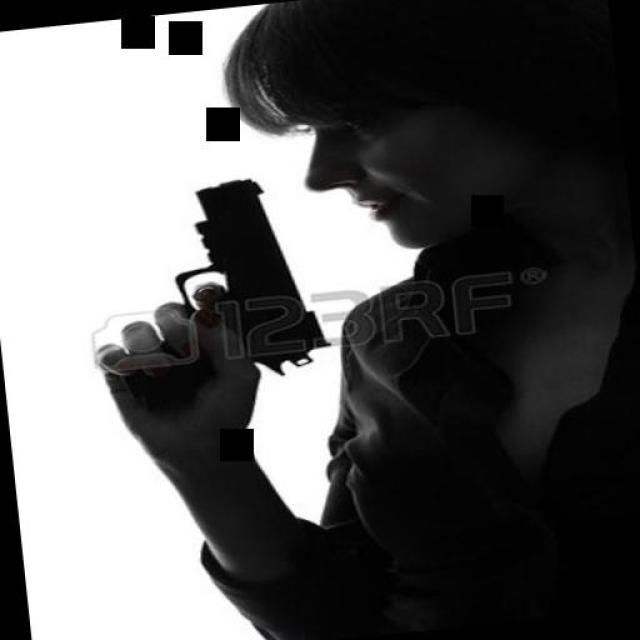gun: (60, 158, 340, 418)
